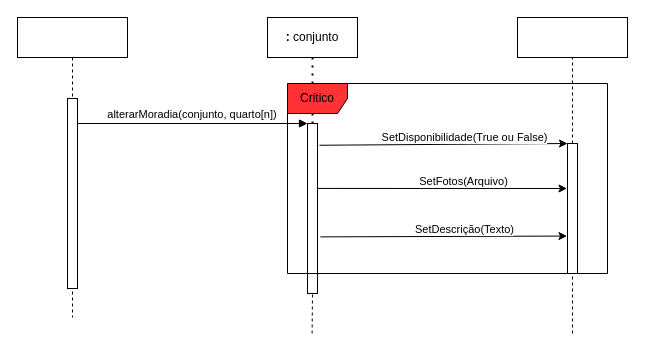
Some shapes in this 645 by 352 pixel diagram are drawn without their labels. Here are the shapes that lost their labels. From the top down, the box of each, then its label:
(516, 16, 628, 58): : quarto
(16, 16, 128, 318): usuário moderador
